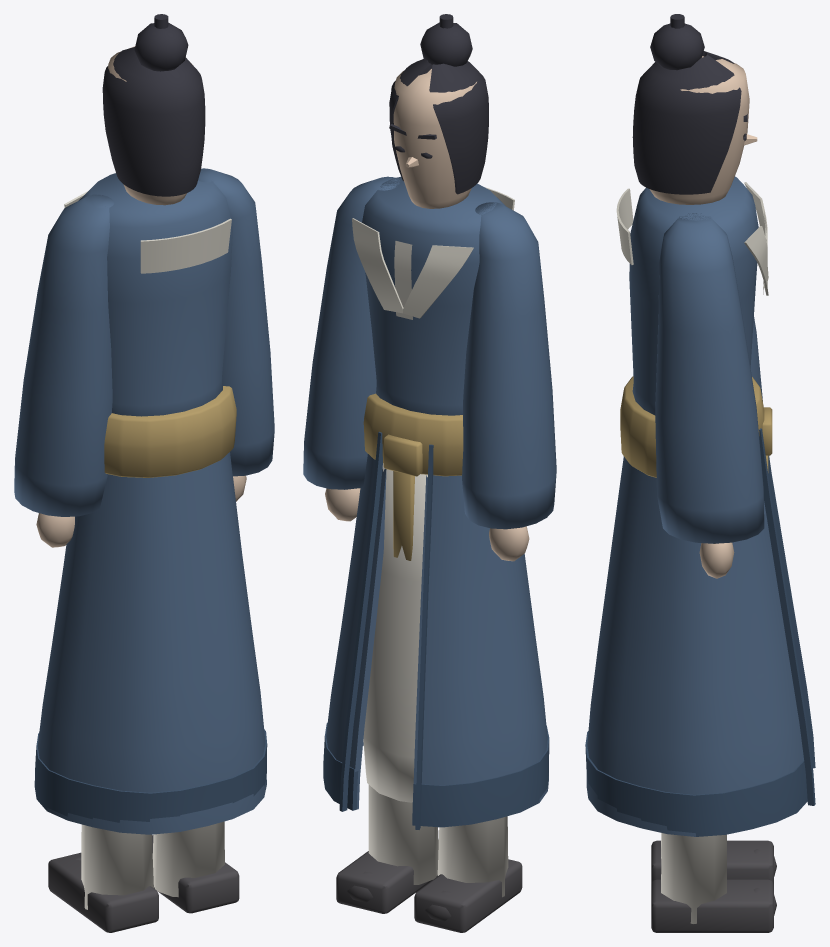
The model's file is cultivator.glb.
The picture shows the model from 3 angles, left to right: view 1: azimuth 30°, elevation 25°; view 2: azimuth 150°, elevation 25°; view 3: azimuth 270°, elevation 25°; orthographic projection. The views are drawn at different scales.
Parts seen in each view (by area): view 1: Robe_Skirt, Arm_Sleeve_R, Robe_Upper, Hair_Cap, Arm_Sleeve_L, Robe_Sash, Robe_HemBand, Leg_R, Foot_R, Leg_L, Robe_Collar, Foot_L (+3 smaller); view 2: Robe_Skirt, Arm_Sleeve_R, Robe_Upper, Arm_Sleeve_L, Robe_Inner, Robe_Sash, Robe_HemBand, Head, Hair_Cap, Robe_Panel, Robe_Collar, Leg_L (+6 smaller); view 3: Robe_Skirt, Arm_Sleeve_L, Hair_Cap, Robe_Upper, Robe_HemBand, Foot_L, Leg_L, Robe_Panel, Robe_Sash, Head, Foot_R, Hair_Bun (+2 smaller).
Part boxes in pixels (bbox=[...]): Robe_Skirt: bbox=[37, 452, 266, 834]; Arm_Sleeve_R: bbox=[14, 194, 114, 516]; Robe_Upper: bbox=[79, 171, 232, 416]; Hair_Cap: bbox=[102, 47, 205, 196]; Arm_Sleeve_L: bbox=[198, 168, 274, 476]; Robe_Sash: bbox=[104, 386, 236, 477]; Robe_HemBand: bbox=[34, 729, 267, 822]; Leg_R: bbox=[81, 824, 153, 909]; Foot_R: bbox=[48, 852, 158, 932]; Leg_L: bbox=[152, 821, 224, 897]; Robe_Collar: bbox=[64, 191, 231, 273]; Foot_L: bbox=[152, 835, 239, 913]; Robe_Skirt: bbox=[326, 454, 548, 809]; Arm_Sleeve_R: bbox=[462, 202, 556, 529]; Robe_Upper: bbox=[362, 176, 505, 415]; Arm_Sleeve_L: bbox=[303, 176, 399, 489]; Robe_Inner: bbox=[363, 241, 427, 802]; Robe_Sash: bbox=[363, 393, 463, 560]; Robe_HemBand: bbox=[323, 723, 549, 827]; Head: bbox=[393, 69, 476, 208]; Hair_Cap: bbox=[389, 59, 488, 194]; Robe_Panel: bbox=[339, 431, 433, 829]; Robe_Collar: bbox=[352, 187, 514, 318]; Leg_L: bbox=[368, 784, 438, 884]; Robe_Skirt: bbox=[586, 456, 803, 836]; Arm_Sleeve_L: bbox=[655, 213, 764, 543]; Hair_Cap: bbox=[632, 51, 741, 194]; Robe_Upper: bbox=[629, 176, 758, 415]; Robe_HemBand: bbox=[585, 731, 807, 836]; Foot_L: bbox=[651, 879, 776, 932]; Leg_L: bbox=[661, 833, 726, 923]; Robe_Panel: bbox=[759, 428, 815, 805]; Robe_Sash: bbox=[620, 376, 772, 477]; Head: bbox=[649, 56, 749, 204]; Foot_R: bbox=[651, 840, 776, 884]; Hair_Bun: bbox=[650, 14, 704, 70].
Size of the model in its own units: 0.5067 by 1.77 by 0.4178.
